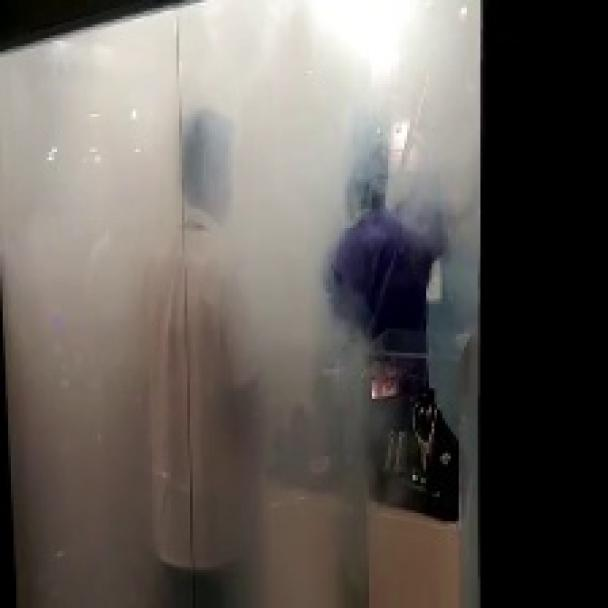smoke: (0, 1, 474, 582)
